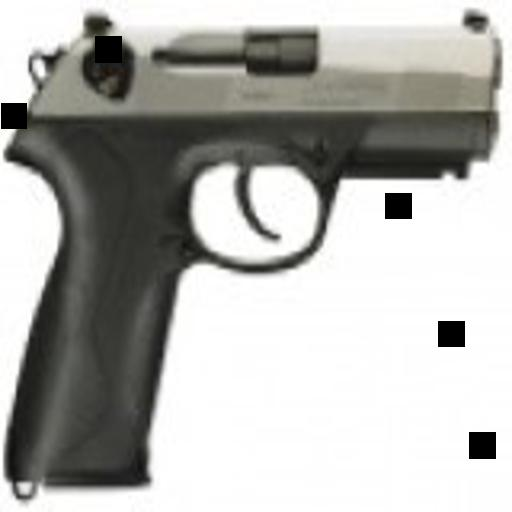Handgun: (8, 11, 501, 493)
